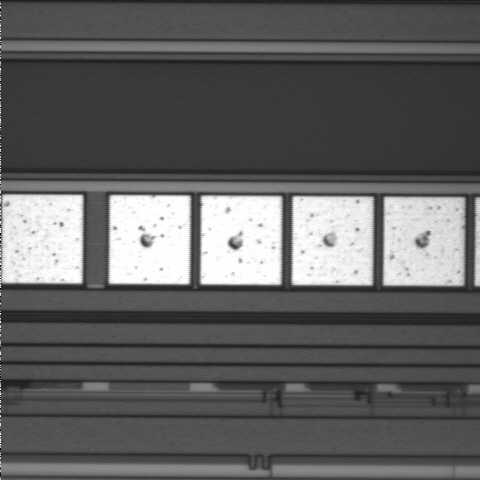pad: (109, 195, 190, 284), (201, 196, 282, 285), (292, 196, 373, 285), (2, 195, 83, 283), (384, 197, 464, 286)
